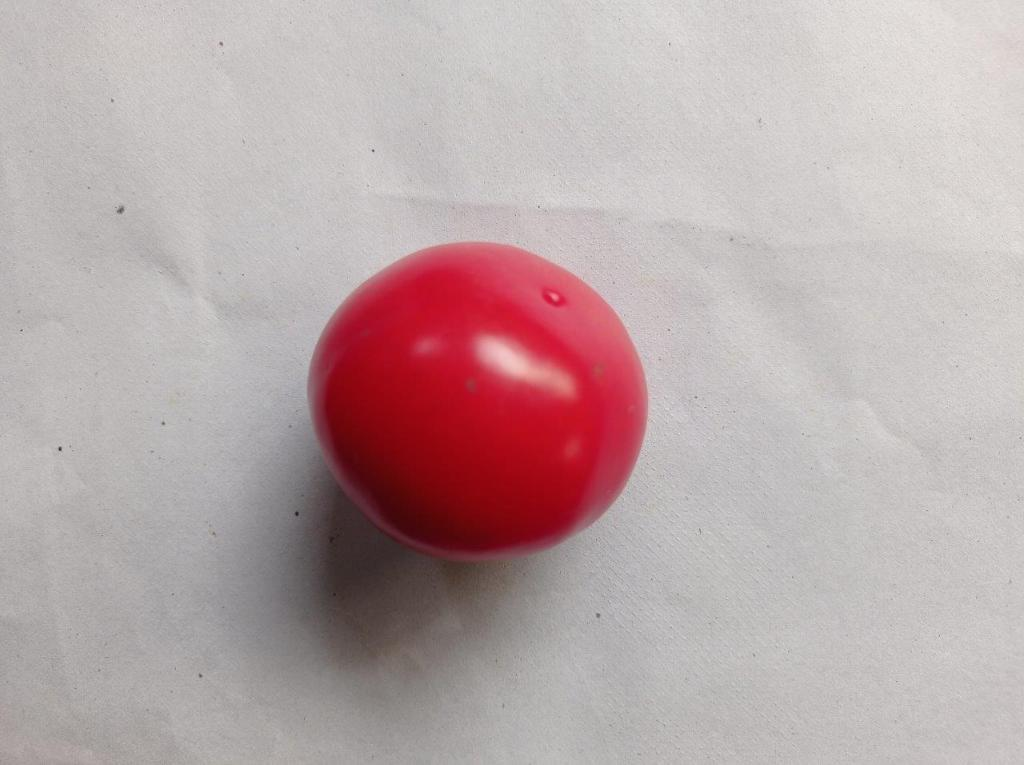tomato: (309, 243, 646, 560)
